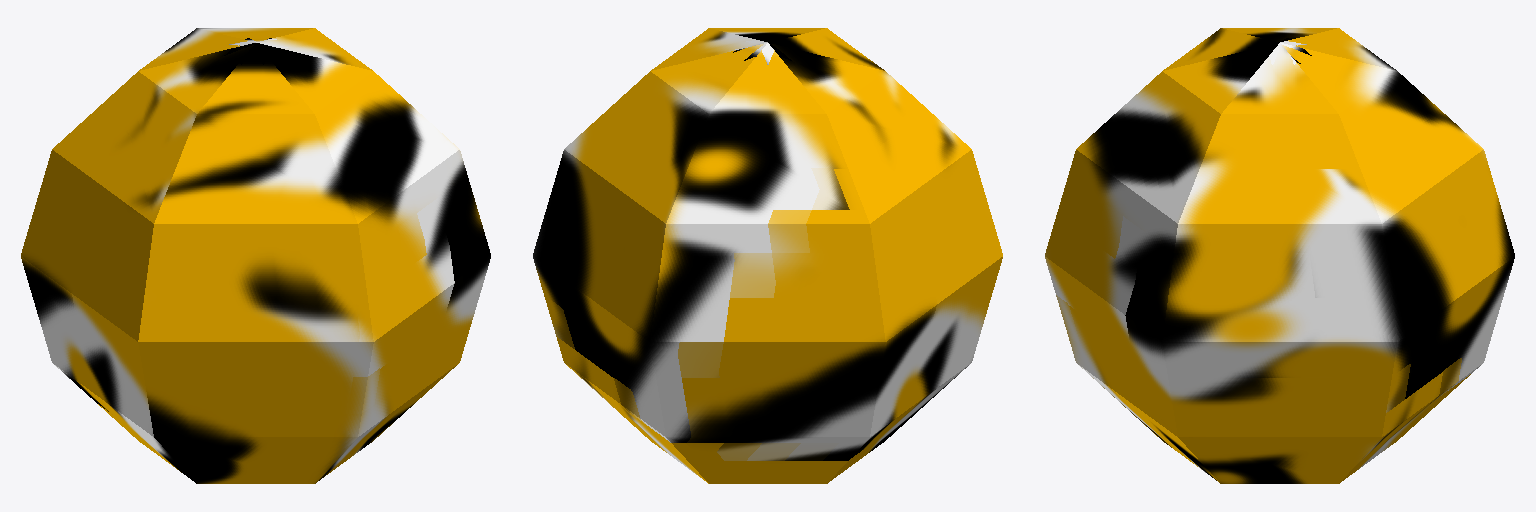
The picture shows the model from 3 angles: view 1: azimuth 30°, elevation 25°; view 2: azimuth 150°, elevation 25°; view 3: azimuth 270°, elevation 25°; orthographic projection.
Parts seen in each view (by area): view 1: Sphere; view 2: Sphere; view 3: Sphere.
Part boxes in pixels (x1,y1,x2,y2): Sphere: (21, 28, 490, 483); Sphere: (533, 28, 1002, 483); Sphere: (1045, 28, 1514, 483).
Size of the model in its own units: 1.73 by 2 by 2.
Materials: 1 (1 with a texture image).